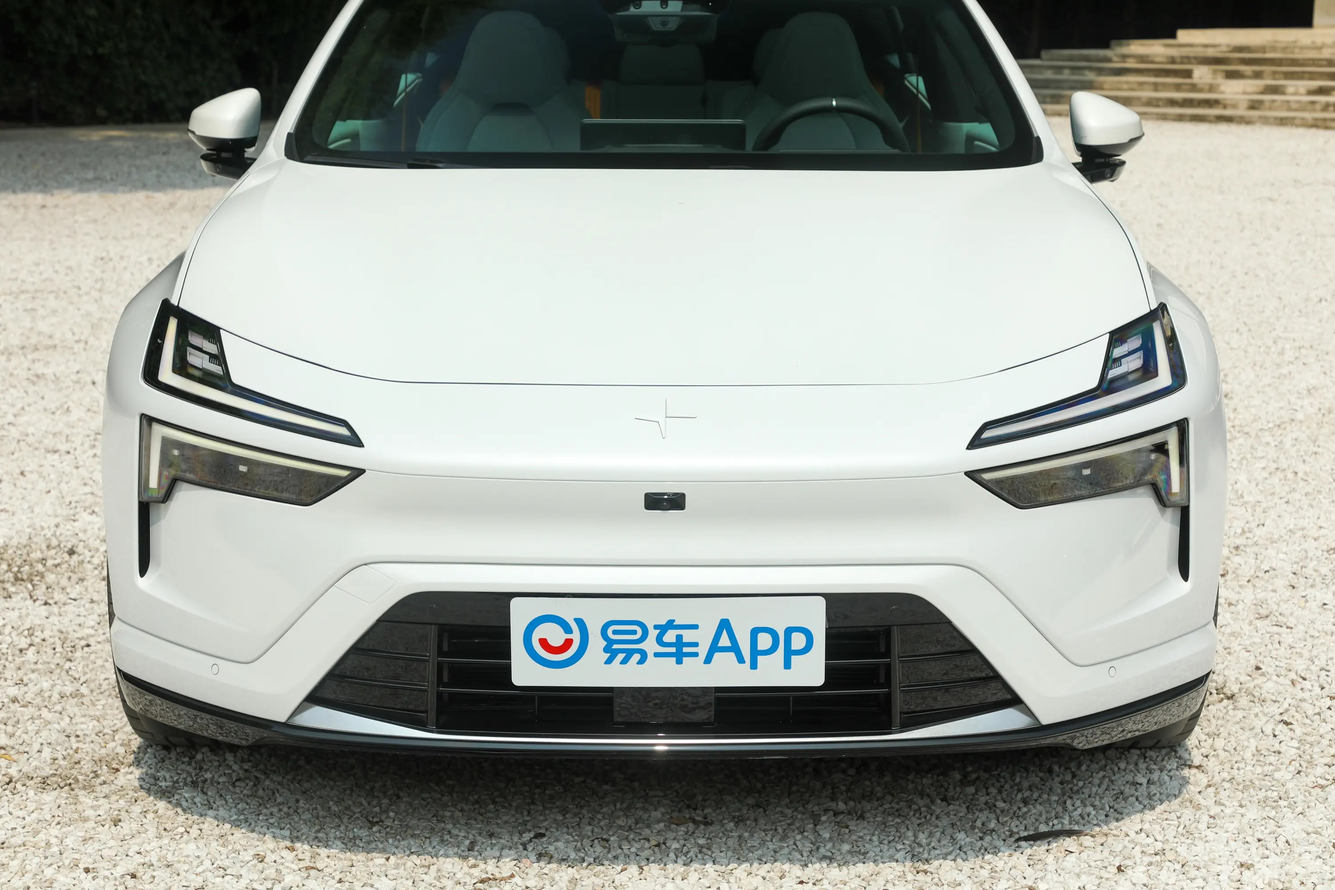Polestar: (635, 399, 696, 438)
